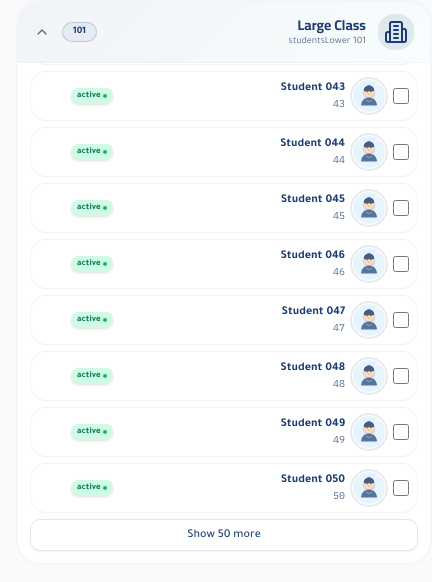
Test case: StudentClassGrid drag-and-drop wiring (Task #799) › bounds large class rosters and reveals every student in 50-student batches
(page scrolled)
Check: the text "Student 101" is not shown
Click the button with test id "show-more-students-large-class" at (224, 535), box [30, 519, 418, 551]
(page scrolled)
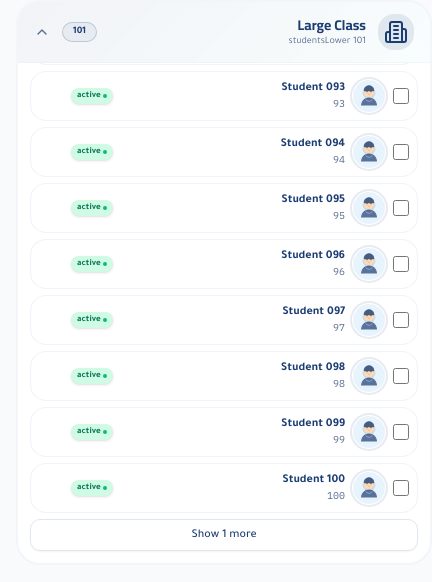
Check: the text "Student 101" is not shown
Click the button with test id "show-more-students-large-class" at (224, 535), box [30, 519, 418, 551]
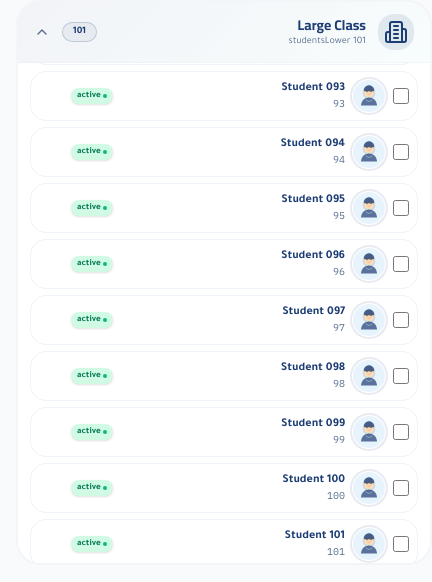
Check: the text "Student 101" is shown, box [284, 529, 345, 544]
Check: the button with test id "show-more-students-large-class" is gone
